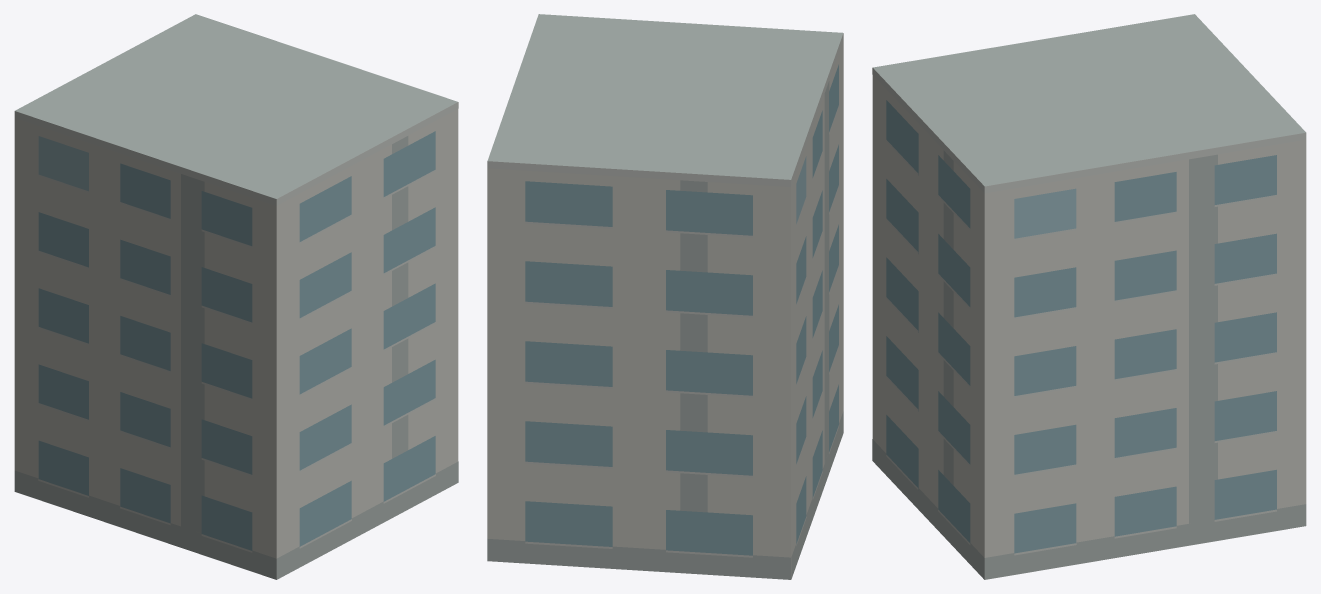
The model's file is survey-upis-32889323.glb.
3 renders of one model, left to right at view 1: azimuth 30°, elevation 25°; view 2: azimuth 150°, elevation 25°; view 3: azimuth 270°, elevation 25°, orthographic. The views are drawn at different scales.
Visible parts, largest first — view 1: survey-upis-32889323.tmp; view 2: survey-upis-32889323.tmp; view 3: survey-upis-32889323.tmp.
Part boxes in pixels (<box>): survey-upis-32889323.tmp: <box>14,14,458,579</box>; survey-upis-32889323.tmp: <box>487,14,843,579</box>; survey-upis-32889323.tmp: <box>872,14,1306,579</box>.
Size of the model in its own units: 12.66 by 13.45 by 13.45.
